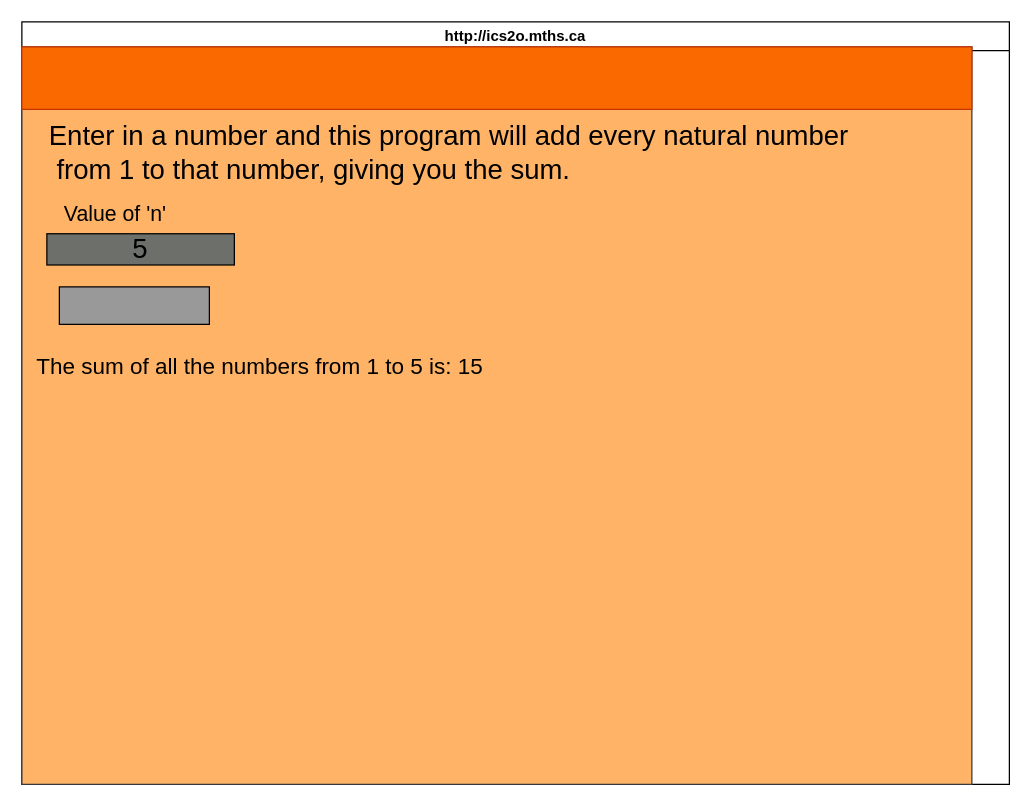
The diagram is 1031 pixels wide and 806 high, and some of its shapes have lost their labels. Here are the shapes that lost their labels. From the top down, the box of each, then its label:
(21, 46, 972, 109): Sum Of n Natural Numbers Calculator
(58, 286, 209, 324): Calculate
